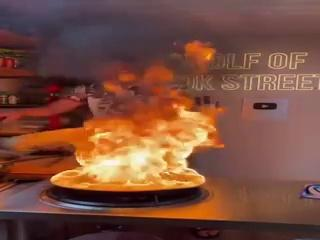Fire: (42, 47, 220, 192)
